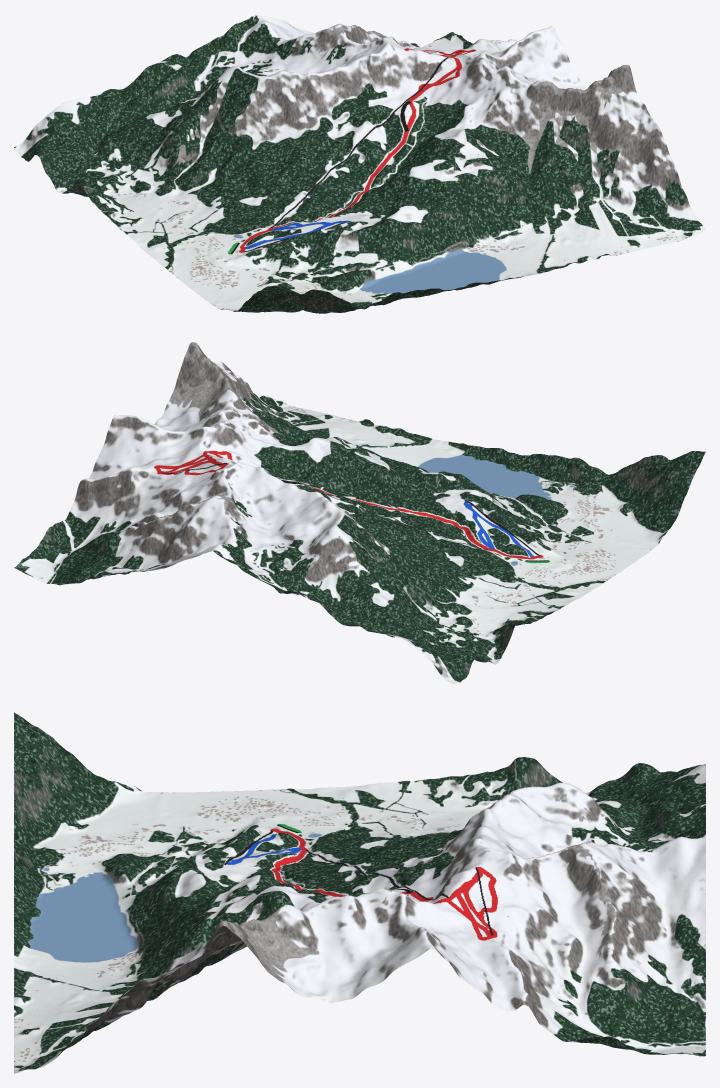
3 views of the same model, one above another, from view 1: azimuth 30°, elevation 25°; view 2: azimuth 150°, elevation 25°; view 3: azimuth 270°, elevation 25° (orthographic). The views are drawn at different scales.
Parts seen in each view (by area): view 1: F2_Fuessener_Joechle.glb; view 2: F2_Fuessener_Joechle.glb; view 3: F2_Fuessener_Joechle.glb.
Boxes of the visible parts, x1,y1,x2,y2 form: F2_Fuessener_Joechle.glb: (14,14,705,313); F2_Fuessener_Joechle.glb: (14,342,705,683); F2_Fuessener_Joechle.glb: (14,712,705,1073).
Size of the model in its own units: 4573 by 1181 by 4573.
1 material, 1 textured.
